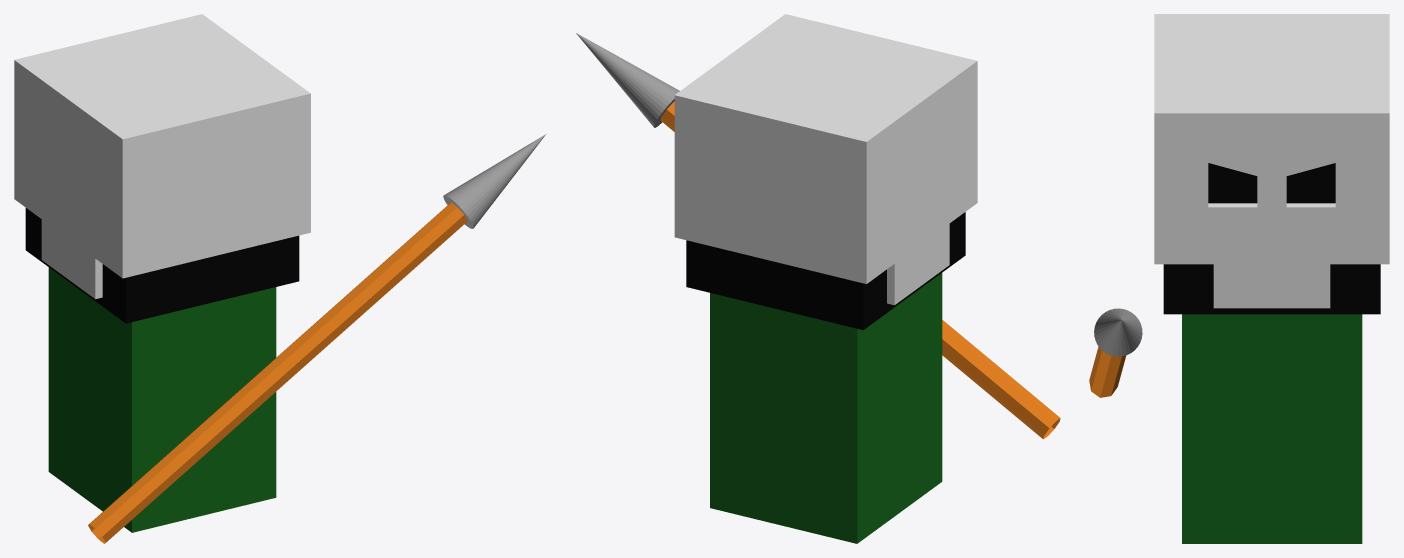
Rendered from Goblin.fbx.
3 views of the same model, side by side, from view 1: azimuth 30°, elevation 25°; view 2: azimuth 150°, elevation 25°; view 3: azimuth 270°, elevation 25° (orthographic). The views are drawn at different scales.
Visible parts, largest first — view 1: Cube.001, Cube, Circle, Cube.002, Cone; view 2: Cube.001, Cube, Cube.002, Circle, Cone; view 3: Cube.001, Cube, Cube.002, Cone, Circle.
Part boxes in pixels (x1,y1,x2,y2): Cube.001: [14, 14, 310, 299]; Cube: [48, 267, 276, 532]; Circle: [88, 202, 467, 543]; Cube.002: [25, 208, 299, 323]; Cone: [443, 134, 546, 228]; Cube.001: [674, 14, 977, 305]; Cube: [710, 273, 942, 543]; Cube.002: [686, 212, 965, 330]; Circle: [660, 101, 1060, 439]; Cone: [576, 33, 679, 127]; Cube.001: [1154, 14, 1389, 308]; Cube: [1182, 314, 1362, 543]; Cube.002: [1163, 163, 1380, 314]; Cone: [1094, 308, 1142, 356]; Circle: [1089, 346, 1126, 397].
Size of the model in its own units: 644 by 541 by 333.
